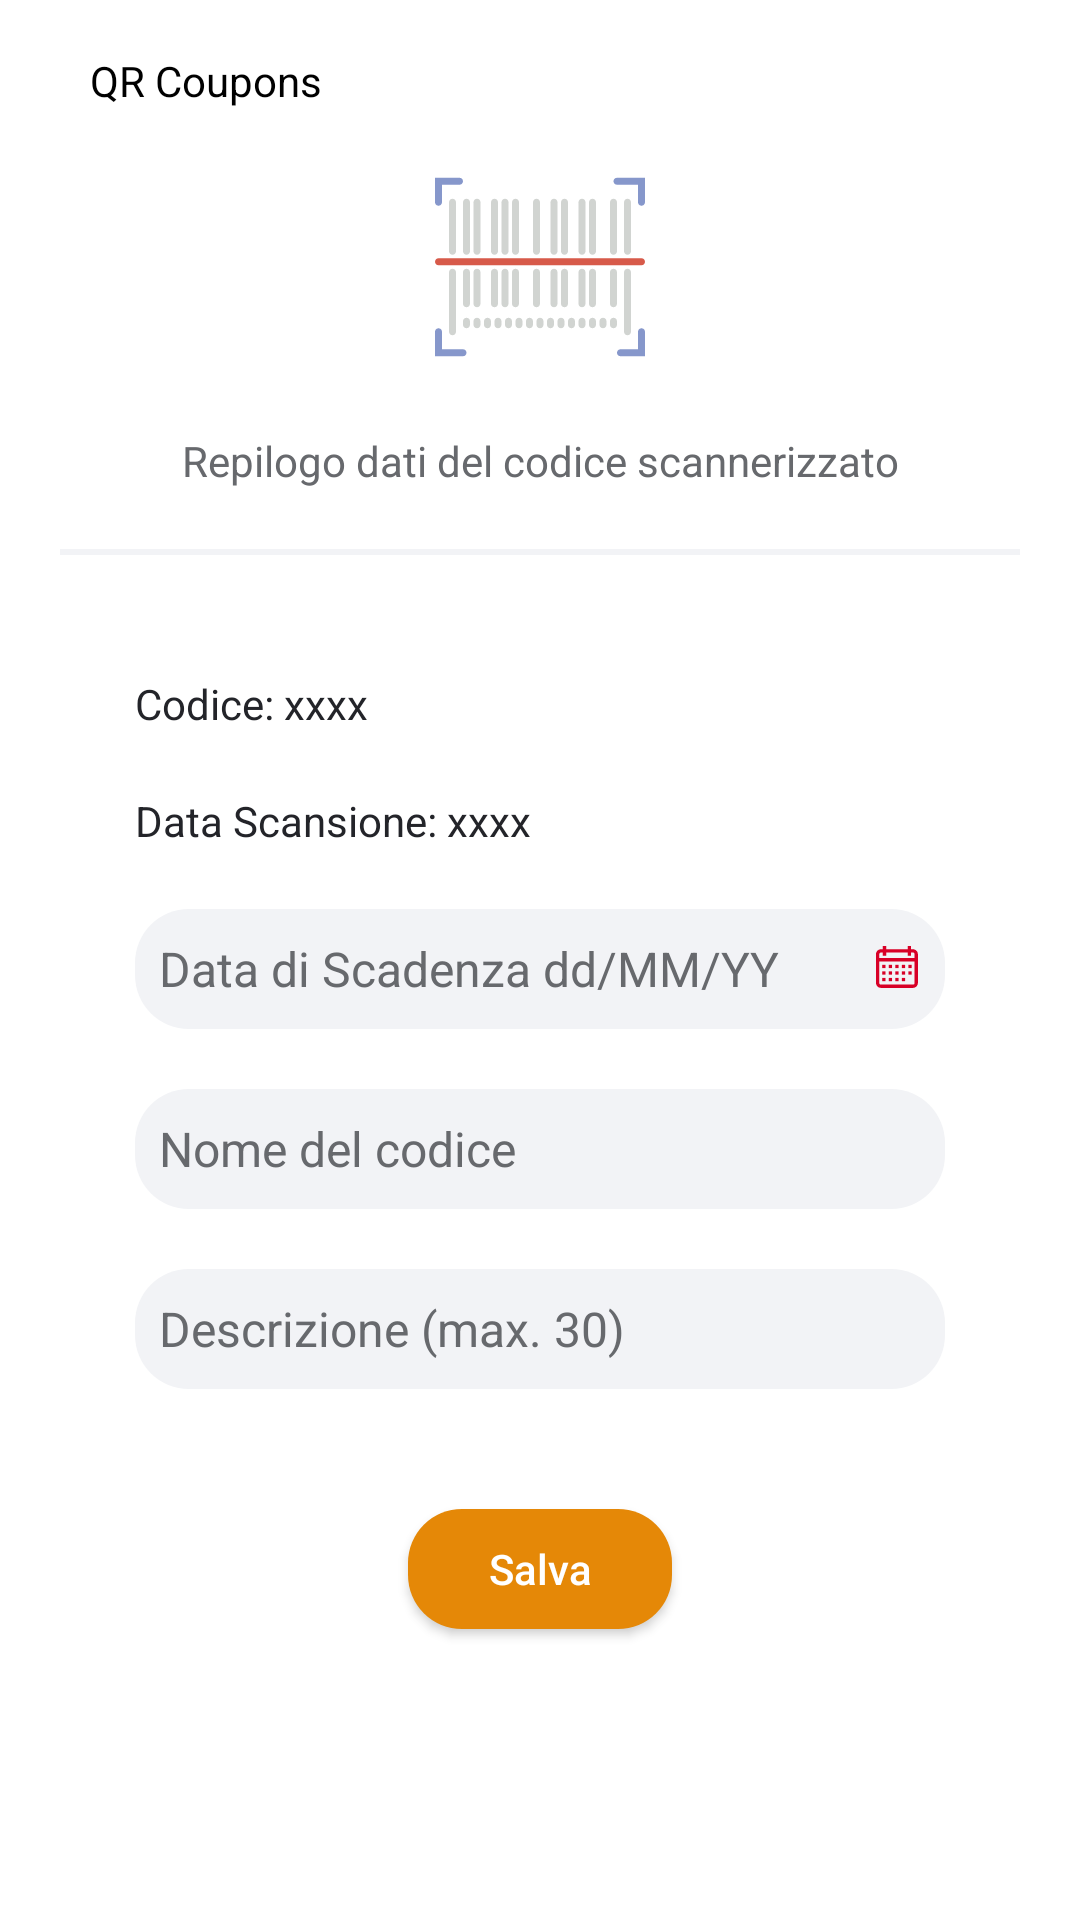

Where to tap for icons on this 1080 x 1920 app screen, as point (x, y):
barcode: point (540, 267)
